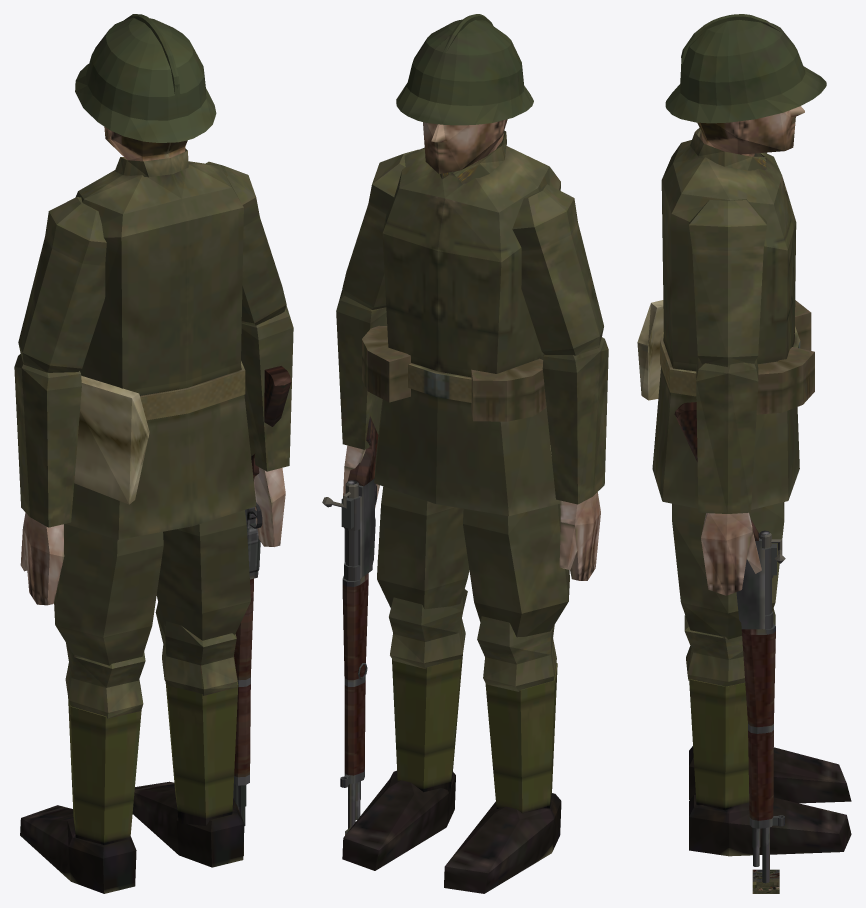
File: us_rifle_infantry.glb
3 views of the same model, side by side, from view 1: azimuth 30°, elevation 25°; view 2: azimuth 150°, elevation 25°; view 3: azimuth 270°, elevation 25° (orthographic). The views are drawn at different scales.
Visible parts, largest first — view 1: torso, head, rleg, lleg, lloarm, lthigh, luparm, rthigh, rloarm, lfoot, gun, rfoot (+1 smaller); view 2: torso, head, lleg, rleg, lloarm, lthigh, luparm, gun, rthigh, lfoot, rfoot, rloarm (+1 smaller); view 3: torso, head, rloarm, ruparm, gun, rleg, rfoot, rthigh, lfoot, flare.
Boxes of the visible parts, x1=… form: torso: x1=65, y1=148, x2=256, y2=539; head: x1=75, y1=14, x2=216, y2=161; rleg: x1=155, y1=602, x2=238, y2=825; lleg: x1=65, y1=643, x2=145, y2=844; lloarm: x1=14, y1=354, x2=81, y2=605; lthigh: x1=54, y1=524, x2=163, y2=665; luparm: x1=18, y1=197, x2=106, y2=372; rthigh: x1=156, y1=510, x2=250, y2=640; rloarm: x1=241, y1=305, x2=293, y2=546; lfoot: x1=20, y1=805, x2=136, y2=893; gun: x1=233, y1=366, x2=291, y2=825; rfoot: x1=132, y1=781, x2=244, y2=867; torso: x1=362, y1=130, x2=560, y2=515; head: x1=396, y1=14, x2=533, y2=173; lleg: x1=477, y1=616, x2=557, y2=813; rleg: x1=389, y1=589, x2=467, y2=793; lloarm: x1=542, y1=337, x2=608, y2=580; lthigh: x1=463, y1=504, x2=569, y2=637; luparm: x1=512, y1=184, x2=603, y2=355; gun: x1=322, y1=416, x2=378, y2=828; rthigh: x1=377, y1=486, x2=469, y2=609; lfoot: x1=444, y1=793, x2=561, y2=893; rfoot: x1=342, y1=770, x2=455, y2=870; rloarm: x1=336, y1=290, x2=387, y2=507; torso: x1=637, y1=128, x2=814, y2=509; head: x1=665, y1=14, x2=826, y2=156; rloarm: x1=696, y1=358, x2=761, y2=595; ruparm: x1=689, y1=199, x2=766, y2=366; gun: x1=674, y1=402, x2=785, y2=883; rleg: x1=684, y1=608, x2=775, y2=810; rfoot: x1=689, y1=794, x2=851, y2=856; rthigh: x1=672, y1=502, x2=784, y2=639; lfoot: x1=689, y1=746, x2=851, y2=803; flare: x1=752, y1=869, x2=779, y2=893.
Bounding box in the file's own units: 0.5709 × 1.8 × 0.4199.
1 material, 1 textured.
